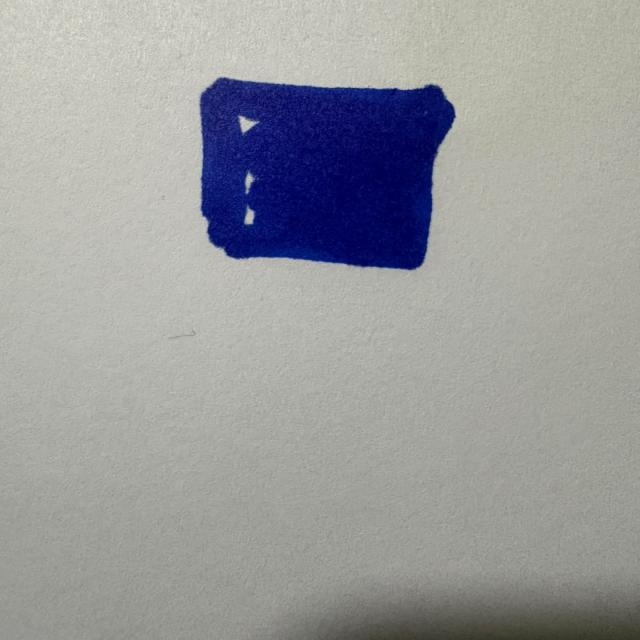Square: (201, 78, 455, 270)
